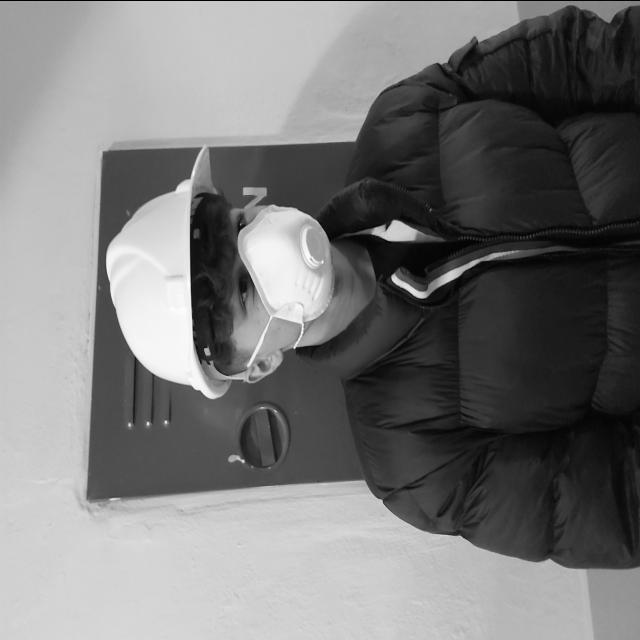safety_helmet: (107, 156, 233, 399)
